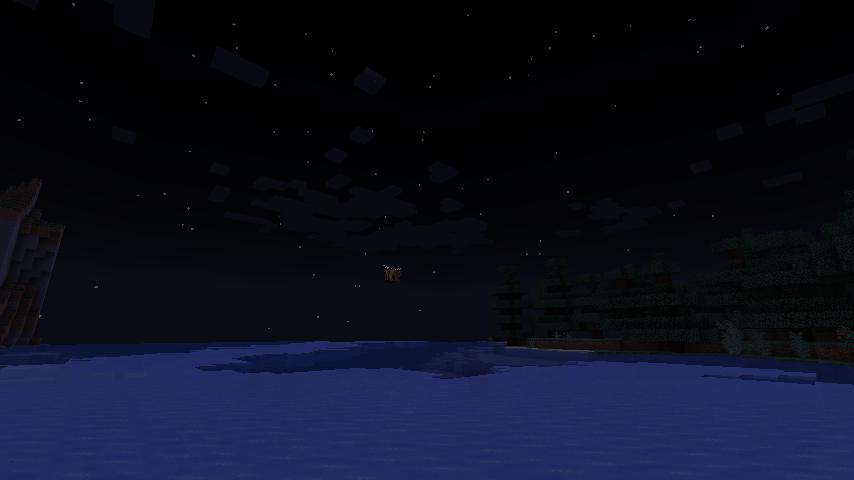bee: (380, 261, 406, 284)
